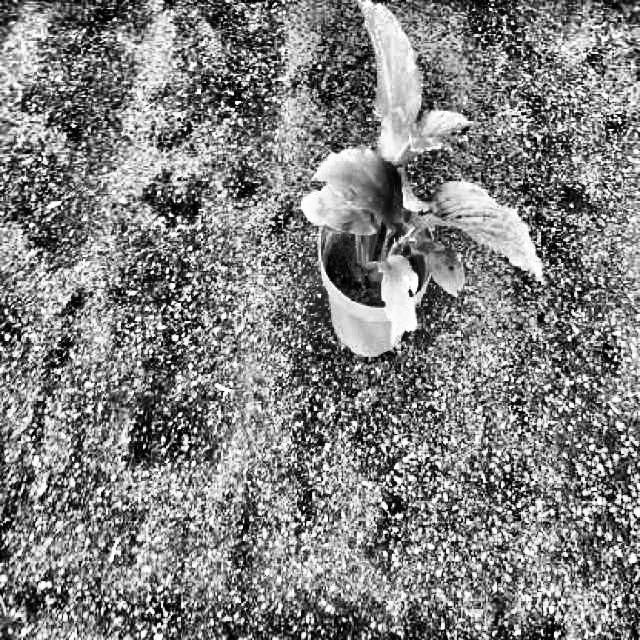plants: (299, 4, 539, 350)
